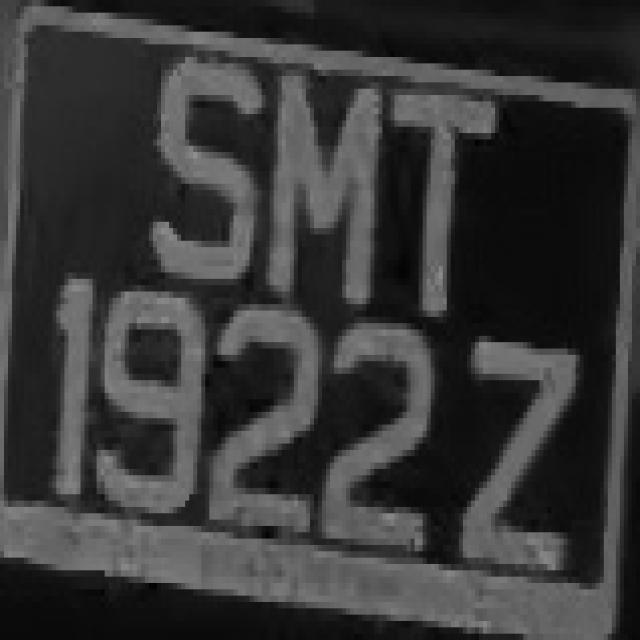1: (24, 247, 97, 526)
2: (330, 291, 439, 583), (221, 292, 326, 552)
9: (97, 254, 213, 538)
M: (266, 38, 390, 323)
S: (132, 6, 266, 298)
T: (382, 38, 508, 342)
Z: (459, 323, 604, 589)
